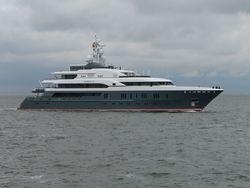yacht: (14, 36, 226, 110)
